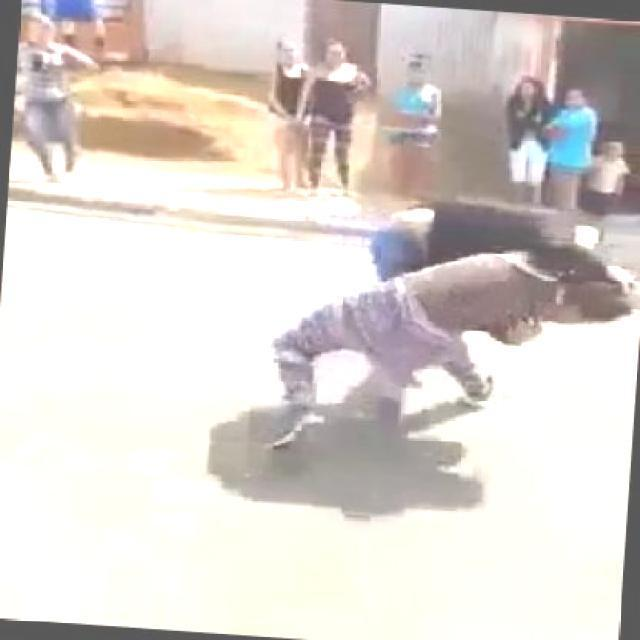fight: (256, 193, 636, 473)
